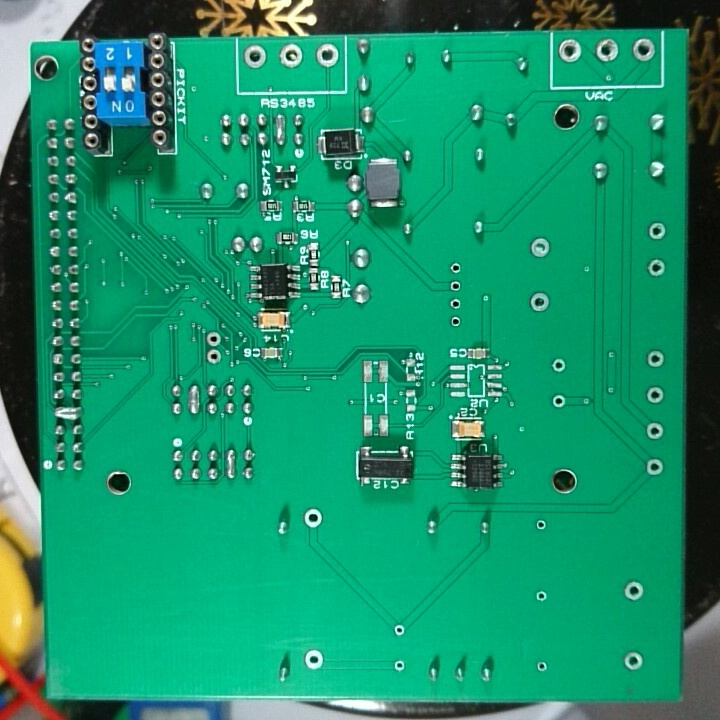F: (313, 40, 340, 72), (593, 36, 624, 63), (620, 578, 651, 605), (243, 43, 270, 74), (276, 40, 302, 72), (558, 37, 584, 67), (301, 646, 329, 673), (631, 37, 657, 63), (529, 237, 553, 263), (622, 649, 645, 676), (302, 505, 325, 532), (645, 384, 668, 409), (529, 289, 550, 316), (647, 256, 668, 281), (647, 220, 669, 243), (644, 418, 666, 441), (644, 348, 667, 369), (645, 455, 665, 479), (204, 346, 224, 369), (204, 327, 223, 349), (550, 355, 567, 374), (447, 295, 465, 312), (392, 621, 408, 640), (534, 587, 552, 602), (447, 260, 465, 275), (448, 311, 463, 329), (447, 278, 464, 292), (390, 657, 404, 672), (551, 392, 568, 401), (534, 658, 551, 665), (535, 514, 552, 518)
P: (53, 401, 88, 423), (187, 380, 203, 420), (272, 111, 288, 149), (224, 445, 236, 484)
